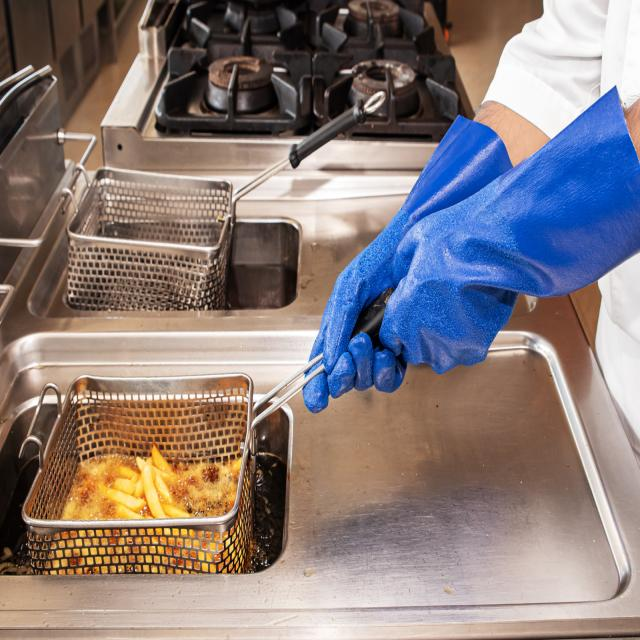gloves: (382, 80, 640, 380), (304, 114, 518, 415)
